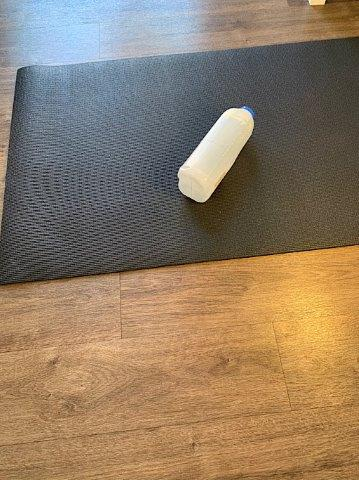botolplastik: (177, 106, 254, 201)
